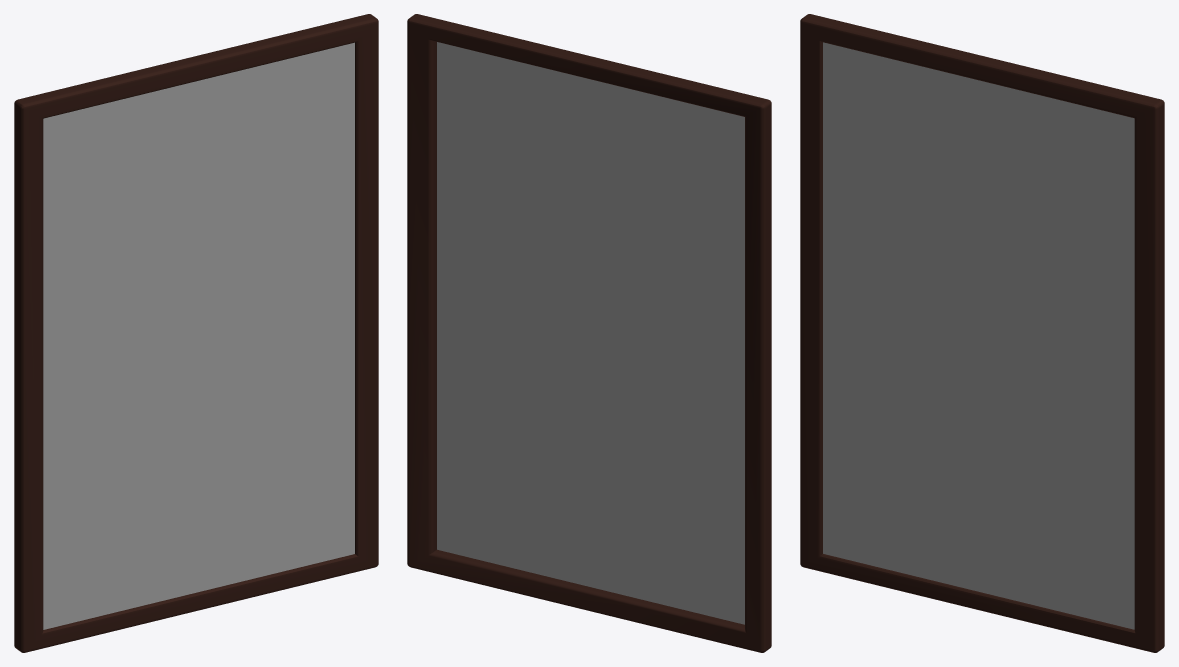
The model's file is wall_art.fbx.
3 renders of one model, left to right at view 1: azimuth 30°, elevation 25°; view 2: azimuth 150°, elevation 25°; view 3: azimuth 330°, elevation 25°, orthographic.
Parts seen in each view (by area): view 1: canvus_1, frame_1; view 2: canvus_1, frame_1; view 3: canvus_1, frame_1.
Boxes of the visible parts, x1=… form: canvus_1: x1=43, y1=42, x2=354, y2=629; frame_1: x1=14, y1=14, x2=378, y2=652; canvus_1: x1=437, y1=42, x2=744, y2=624; frame_1: x1=407, y1=14, x2=771, y2=652; canvus_1: x1=823, y1=42, x2=1134, y2=629; frame_1: x1=800, y1=14, x2=1164, y2=652.
Size of the model in its own units: 564 by 825 by 25.6.
